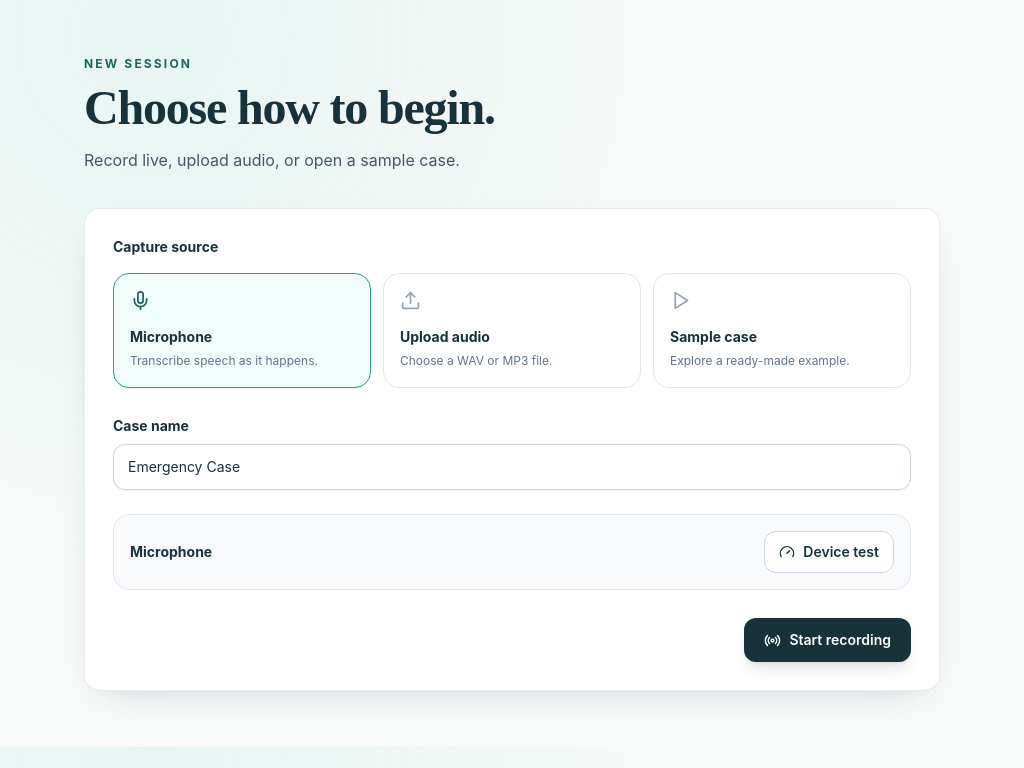
SimulationWorkspace › runs the curated sample into the review workspace
Click the button "Sample case Explore a ready-made example." at point(782, 330), box [653,273,911,388]
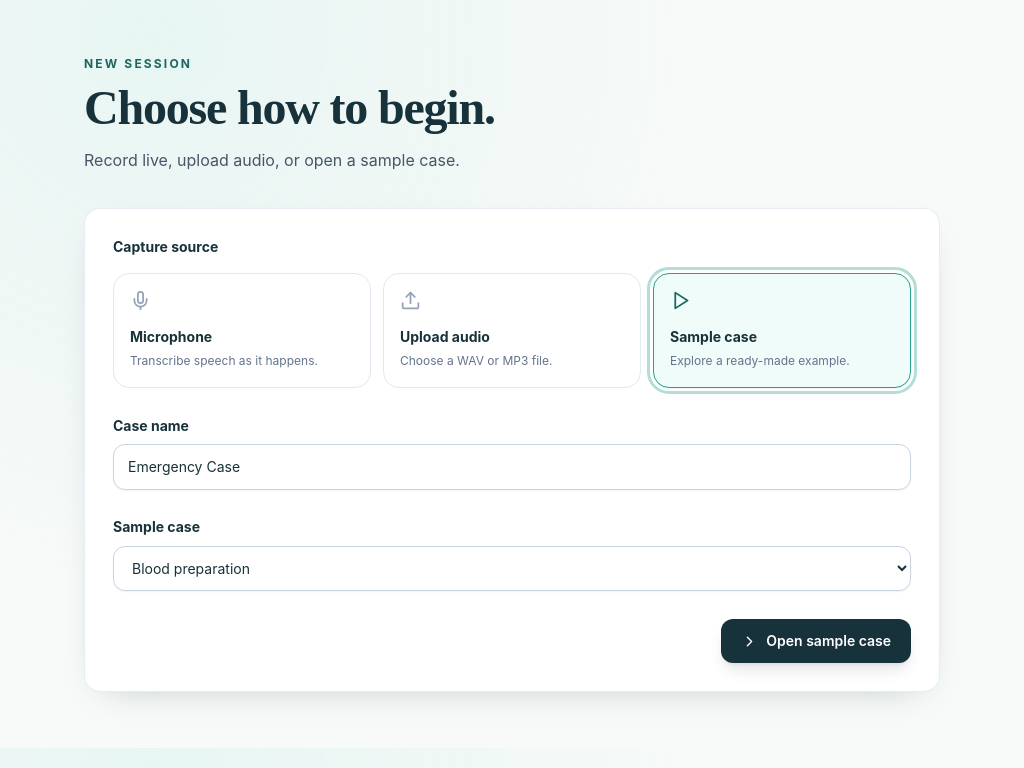
Click the button "Open sample case" at point(816, 641), box [721,619,911,663]
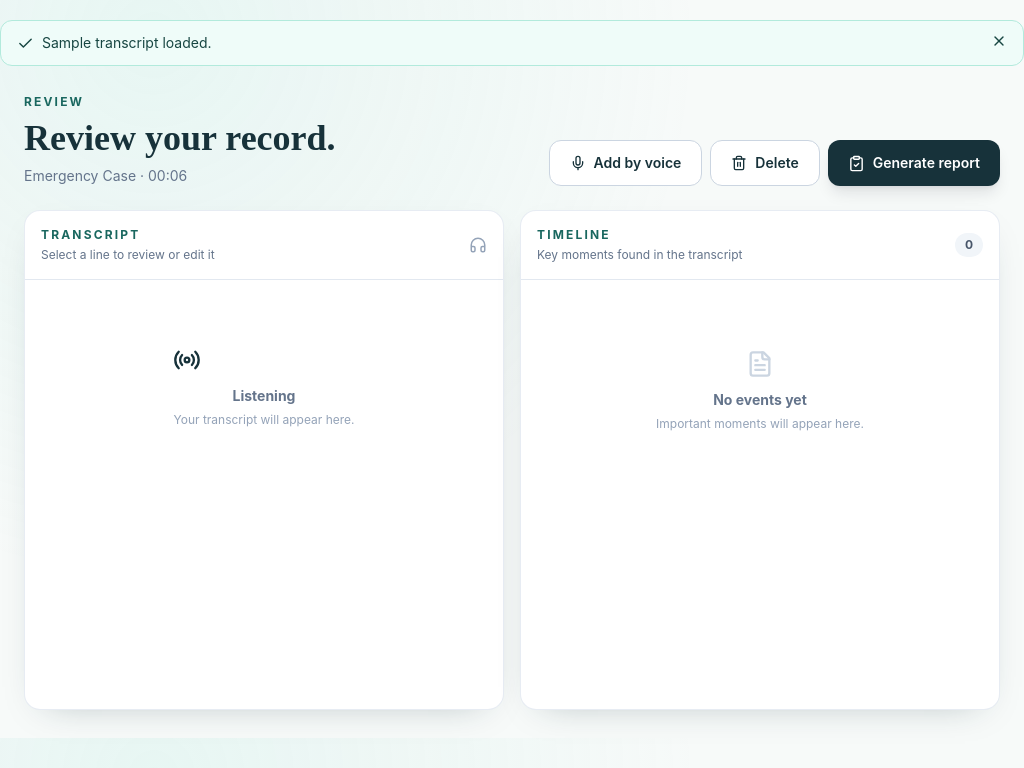
Expected: the heading "Review your record." is shown, [24,118,336,158]
Expected: the button "Add by voice" is enabled, [548,140,702,186]
